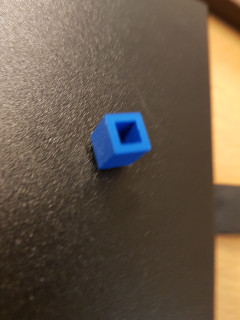1x1 blue: (87, 111, 153, 173)
